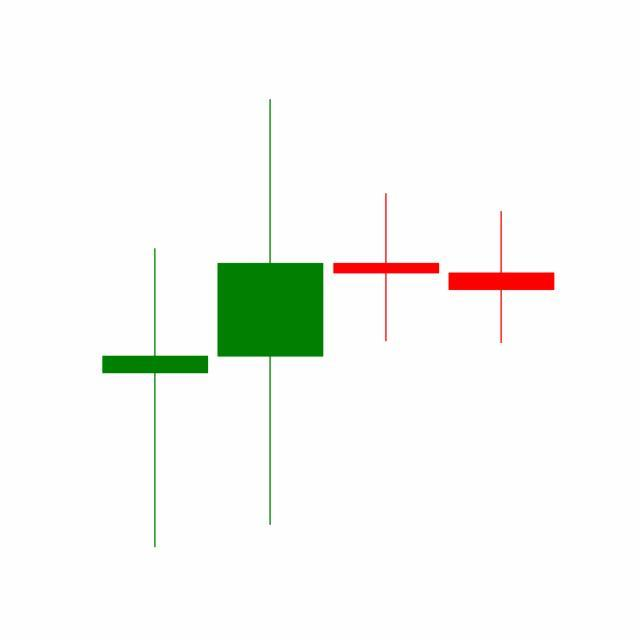Spinning Top: (444, 210, 560, 346)
